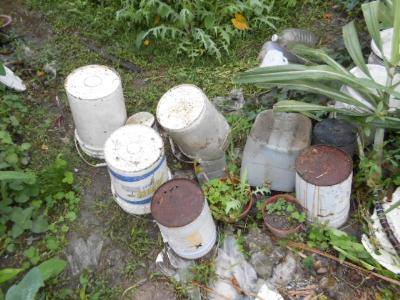bucket: (61, 64, 129, 161), (103, 123, 172, 216), (155, 81, 234, 161), (150, 177, 222, 261), (244, 108, 312, 192), (292, 144, 355, 231), (271, 27, 317, 51)
